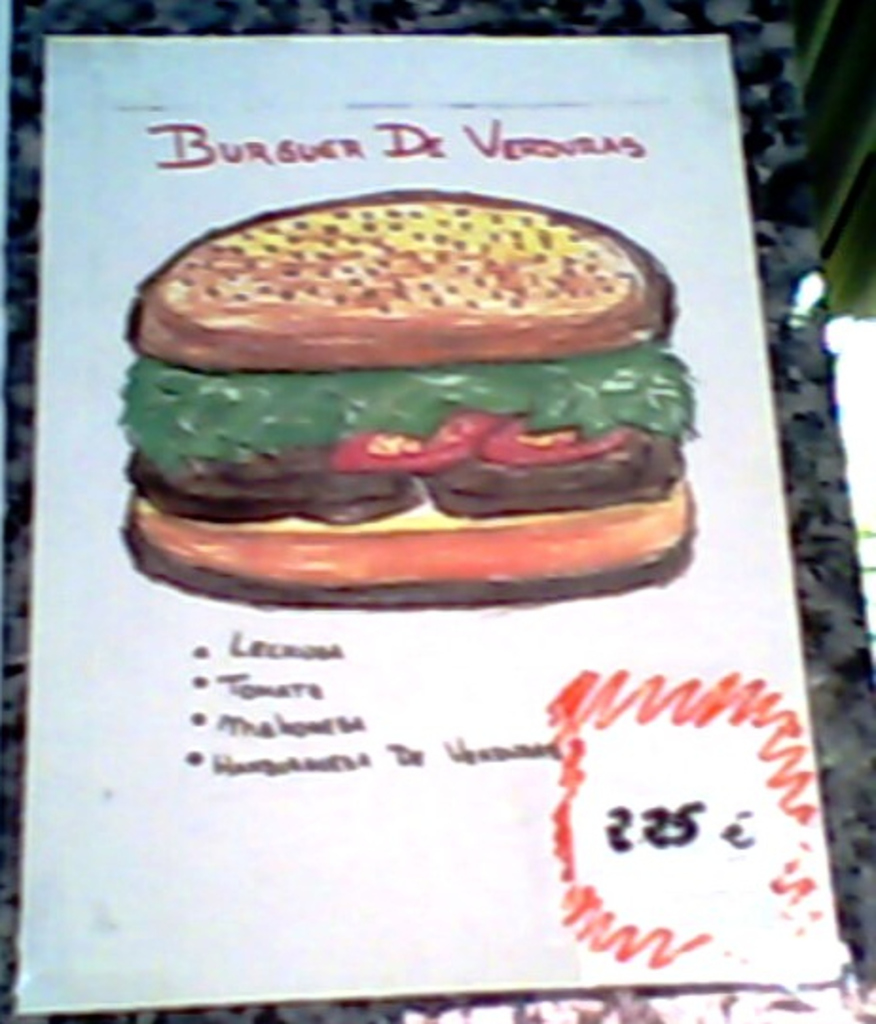Hamburger: (111, 182, 703, 606)
